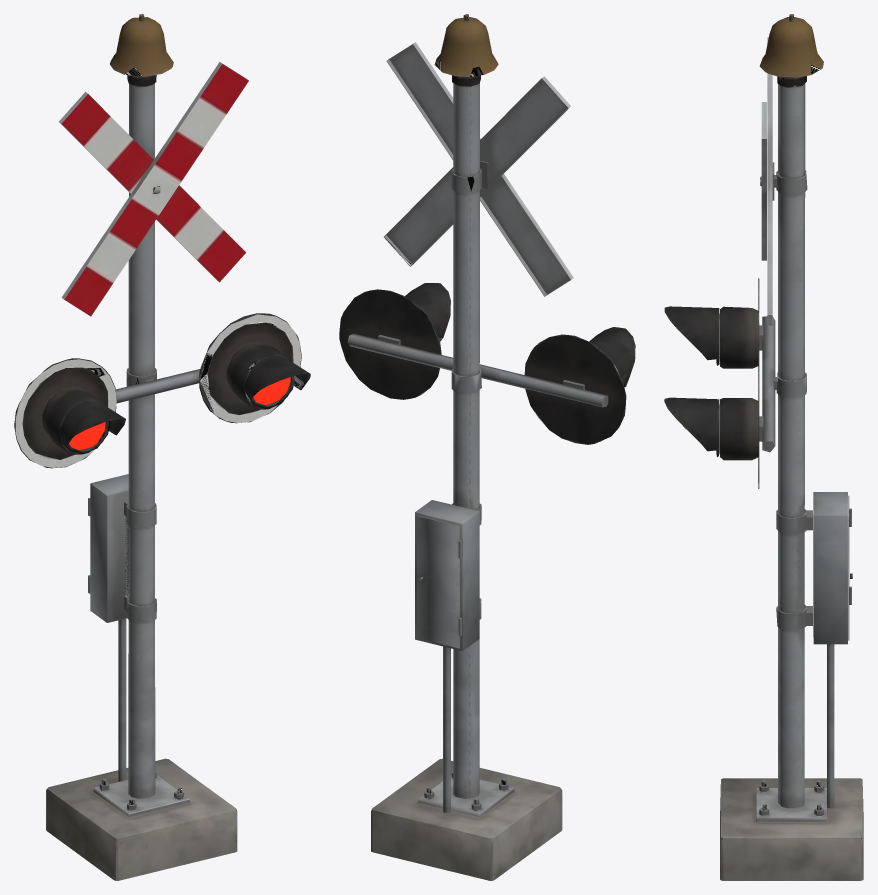
Rendered from railway-crossing-signal.glb.
3 views of the same model, side by side, from view 1: azimuth 30°, elevation 25°; view 2: azimuth 150°, elevation 25°; view 3: azimuth 270°, elevation 25° (orthographic).
Parts seen in each view (by area): view 1: railway-crossing-signal_body, railway-crossing-signal_lens_left; view 2: railway-crossing-signal_body; view 3: railway-crossing-signal_body.
Boxes of the visible parts, box(x1,y1,x2,y2) form: railway-crossing-signal_body: box(14, 14, 310, 880); railway-crossing-signal_lens_left: box(69, 377, 290, 449); railway-crossing-signal_body: box(339, 14, 635, 880); railway-crossing-signal_body: box(664, 14, 863, 880).
Bounding box in the file's own units: 1.4 × 3.85 × 0.8322.
Materials: 2 (1 with a texture image).
